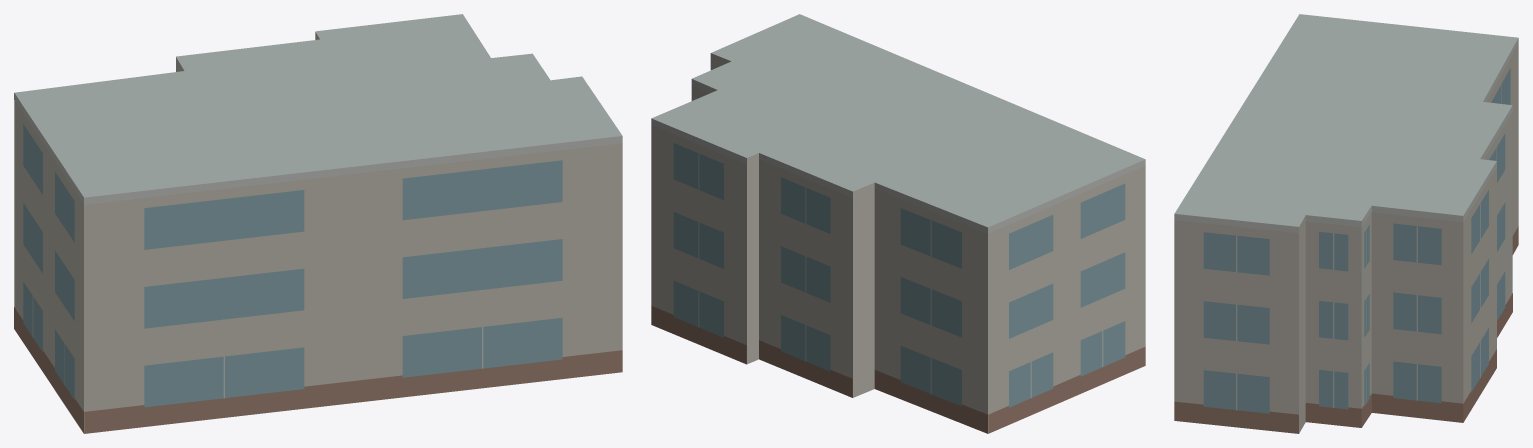
Rendered from survey-upis-32527700.glb.
The picture shows the model from 3 angles, left to right: view 1: azimuth 30°, elevation 25°; view 2: azimuth 150°, elevation 25°; view 3: azimuth 270°, elevation 25°; orthographic projection. The views are drawn at different scales.
Visible parts, largest first — view 1: survey-upis-32527700.tmp; view 2: survey-upis-32527700.tmp; view 3: survey-upis-32527700.tmp.
Boxes of the visible parts, x1=… form: survey-upis-32527700.tmp: x1=14, y1=14, x2=622, y2=433; survey-upis-32527700.tmp: x1=651, y1=14, x2=1145, y2=433; survey-upis-32527700.tmp: x1=1174, y1=14, x2=1518, y2=433.
Size of the model in its own units: 17.65 by 8 by 12.07.
